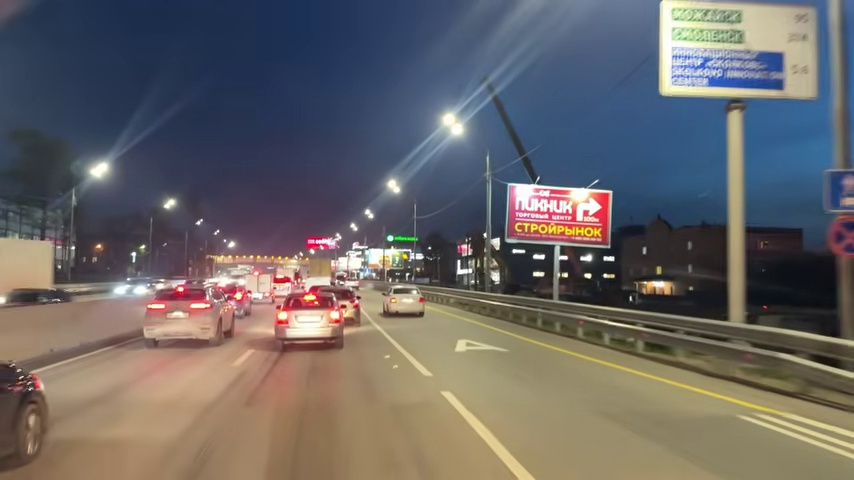acesa: (440, 111, 464, 137), (87, 160, 110, 181), (384, 177, 404, 197), (160, 195, 179, 213), (363, 208, 376, 221)
